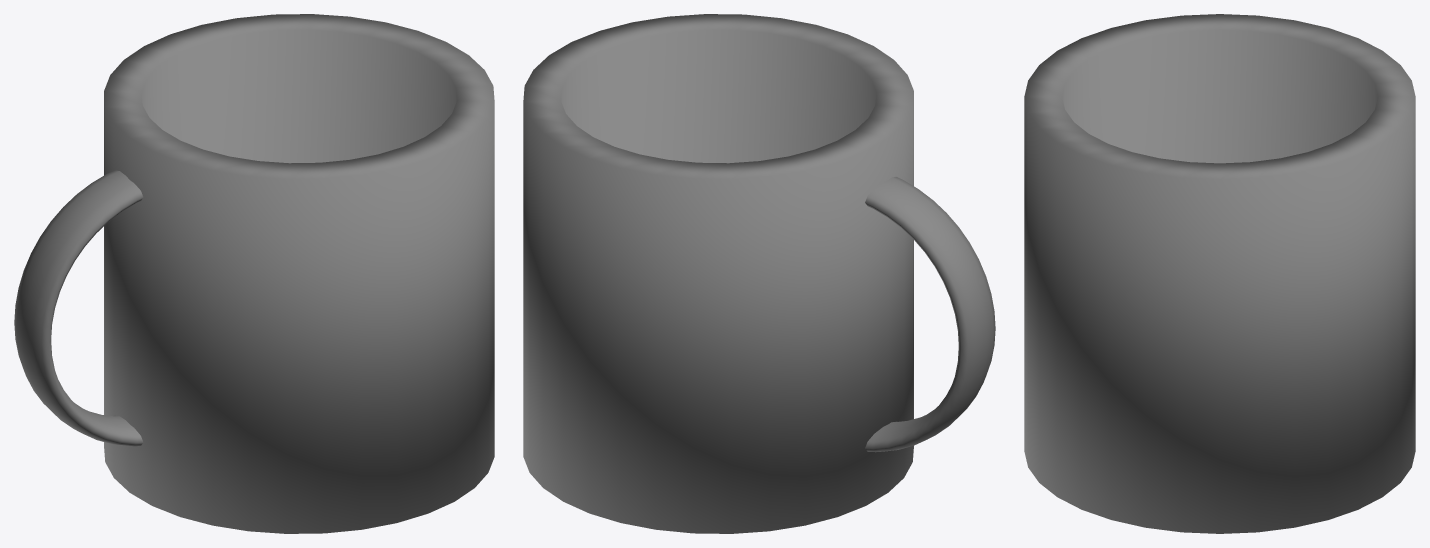
The model's file is Assets.fbx_Tasse.fbx.
3 views of the same model, side by side, from view 1: azimuth 30°, elevation 25°; view 2: azimuth 150°, elevation 25°; view 3: azimuth 270°, elevation 25° (orthographic).
Visible parts, largest first — view 1: Tasse; view 2: Tasse; view 3: Tasse.
Boxes of the visible parts, box(x1,y1,x2,y2) form: Tasse: box(14, 14, 494, 533); Tasse: box(523, 14, 995, 533); Tasse: box(1024, 14, 1415, 533).
Size of the model in its own units: 11.78 by 9.04 by 9.04.
